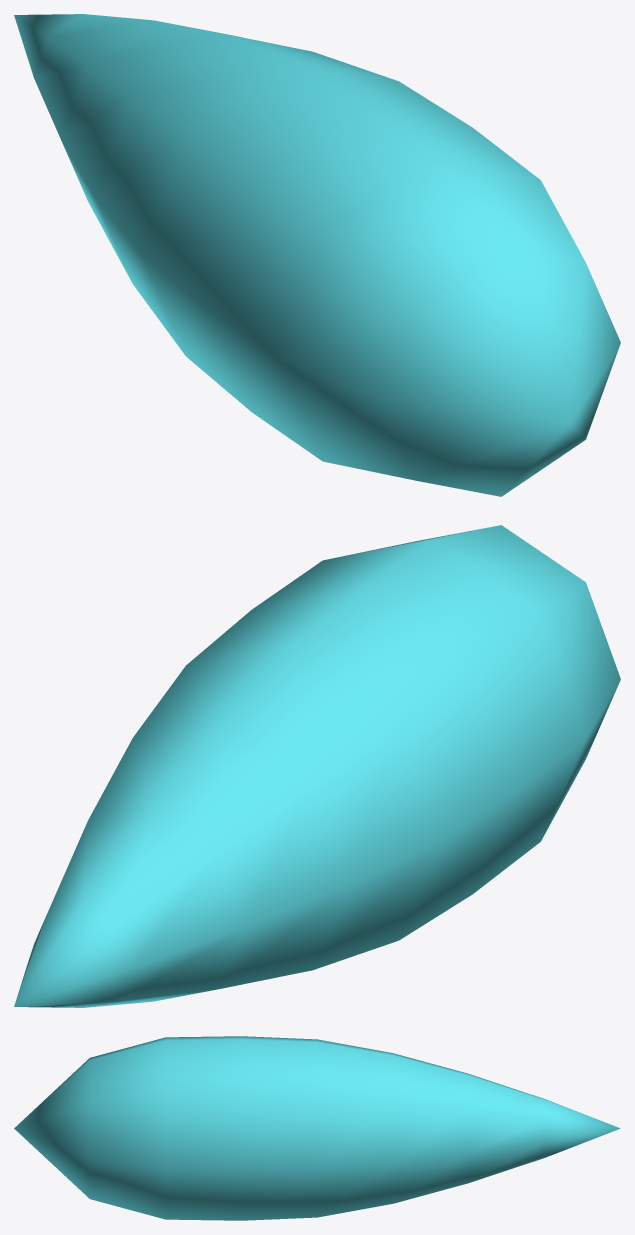
File: jared-cockpit-lod1.gltf
The picture shows the model from 3 angles, top to bottom: view 1: azimuth 30°, elevation 25°; view 2: azimuth 150°, elevation 25°; view 3: azimuth 270°, elevation 25°; orthographic projection. The views are drawn at different scales.
Visible parts, largest first — view 1: Jared cockpit; view 2: Jared cockpit; view 3: Jared cockpit.
Part boxes in pixels (x1=…): Jared cockpit: x1=14, y1=14, x2=620, y2=496; Jared cockpit: x1=14, y1=525, x2=620, y2=1007; Jared cockpit: x1=14, y1=1036, x2=620, y2=1220.
Size of the model in its own units: 0.0144 by 0.0144 by 0.0446.
